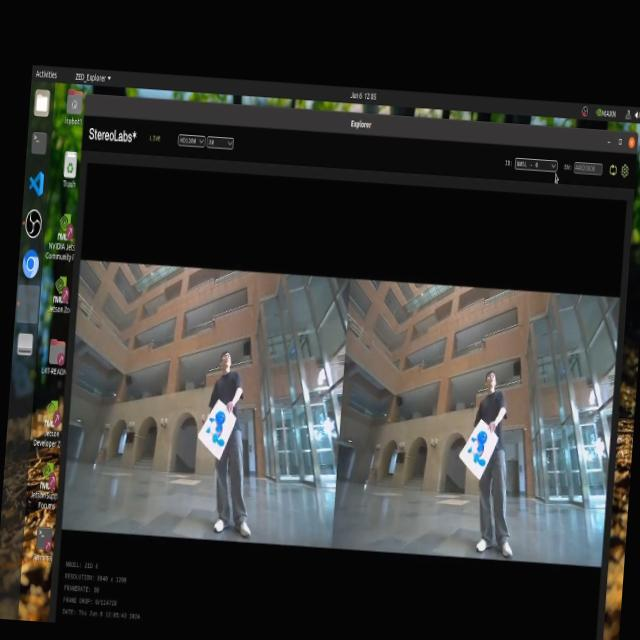blue: (191, 399, 232, 465), (464, 430, 494, 474)
